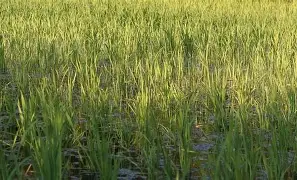crops: (0, 0, 291, 177), (22, 81, 74, 180), (211, 96, 262, 180), (77, 101, 128, 179), (121, 44, 181, 106), (159, 93, 202, 179), (1, 0, 92, 39), (182, 0, 286, 33), (84, 20, 135, 87), (256, 93, 294, 180), (113, 0, 197, 38), (0, 38, 56, 94), (257, 27, 296, 81), (1, 128, 35, 180), (135, 135, 164, 180), (181, 29, 198, 66), (149, 10, 162, 31), (0, 33, 6, 72), (268, 0, 291, 5)
